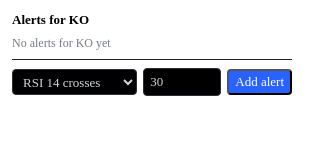
Test case: Should not offer an alert on an average when there is none
Select "Price crosses average" in the dropdown named "Condition" at (75, 82), box [12, 69, 137, 95]
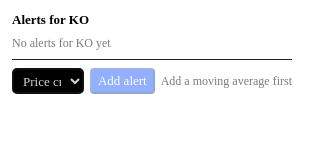
Expected: the text "Add a moving average first" is shown, [161, 74, 292, 88]
Expected: the button "Add alert" is disabled, [90, 68, 155, 94]
